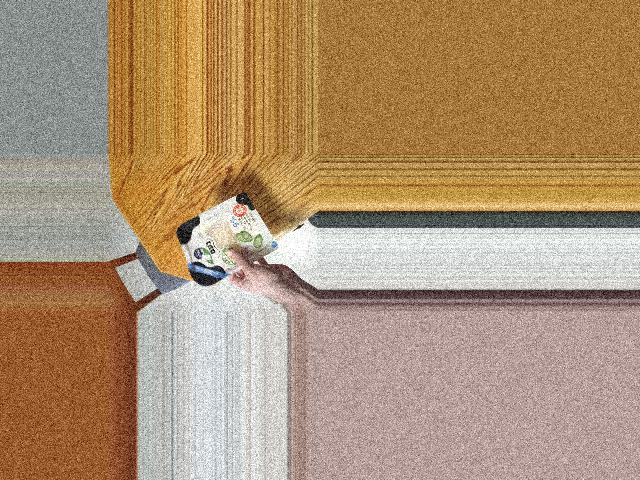cheese: (178, 198, 266, 284)
